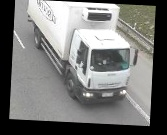truck: (24, 0, 141, 107)
